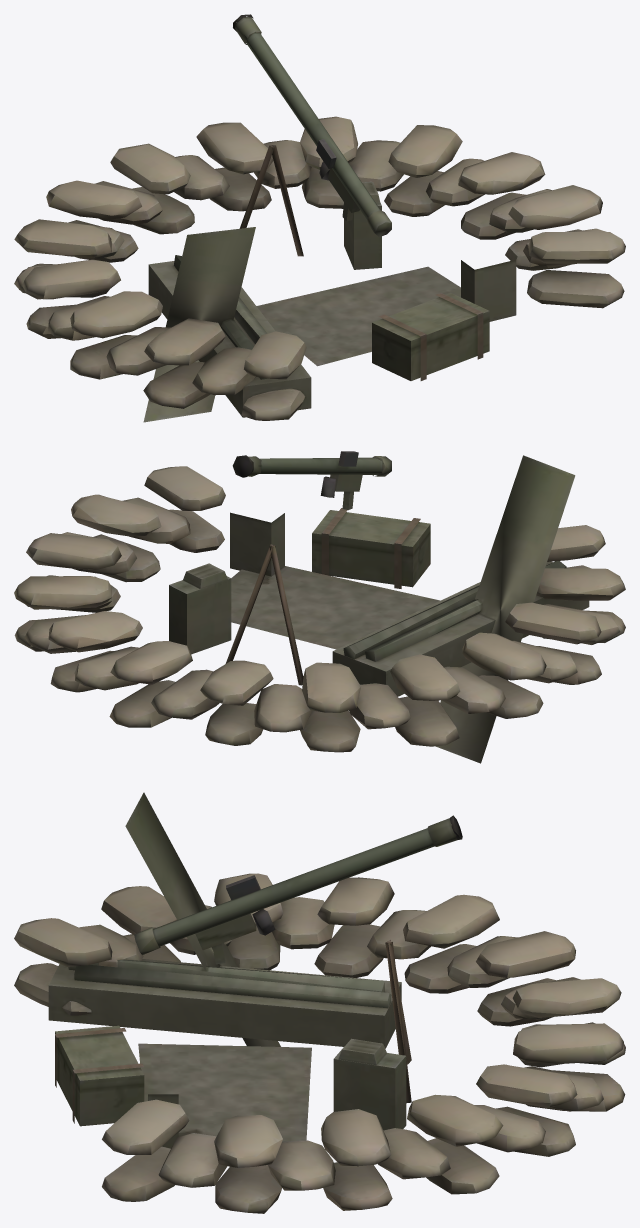
The model's file is manpads_team_lod1.glb.
3 renders of one model, top to bottom at view 1: azimuth 30°, elevation 25°; view 2: azimuth 150°, elevation 25°; view 3: azimuth 270°, elevation 25°, orthographic. The views are drawn at different scales.
Visible parts, largest first — view 1: post, launcher; view 2: post, launcher; view 3: post, launcher.
Boxes of the visible parts, x1,y1,x2,y2 form: post: (14, 116, 625, 422); launcher: (233, 14, 391, 236); post: (14, 455, 625, 763); launcher: (232, 451, 391, 510); post: (14, 792, 625, 1213); launcher: (134, 815, 462, 964).
Size of the model in its own units: 3.56 by 2.05 by 3.17.
1 material, 1 textured.
